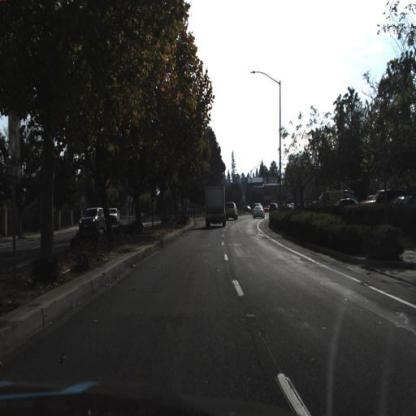car: (202, 185, 231, 228), (78, 205, 109, 239), (225, 200, 241, 221), (253, 204, 266, 223)
